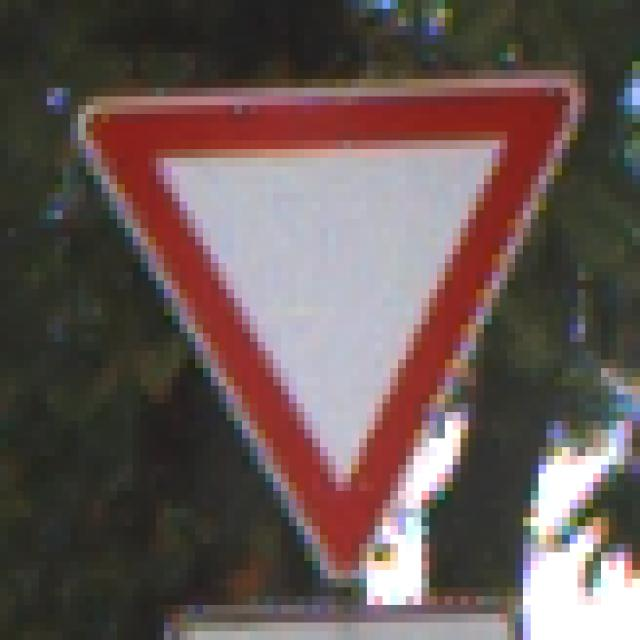Give Way: (64, 63, 587, 589)
